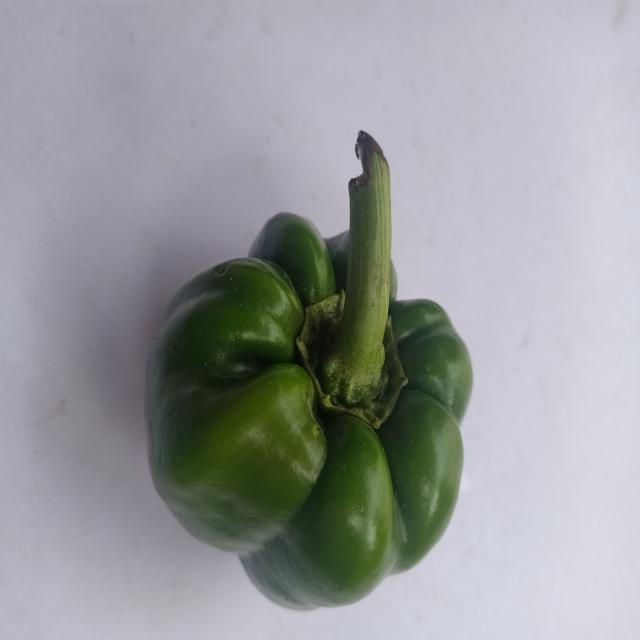Capsicum: (125, 124, 492, 624)
